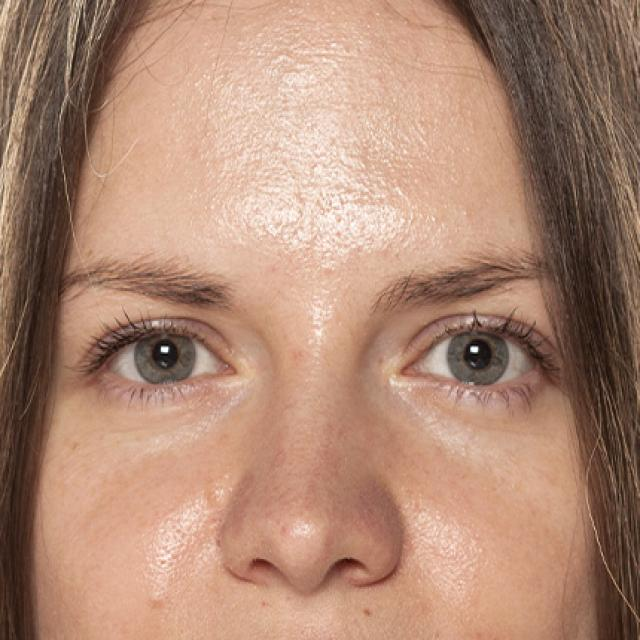oily: (179, 24, 418, 242), (397, 436, 574, 640), (86, 447, 198, 576)
